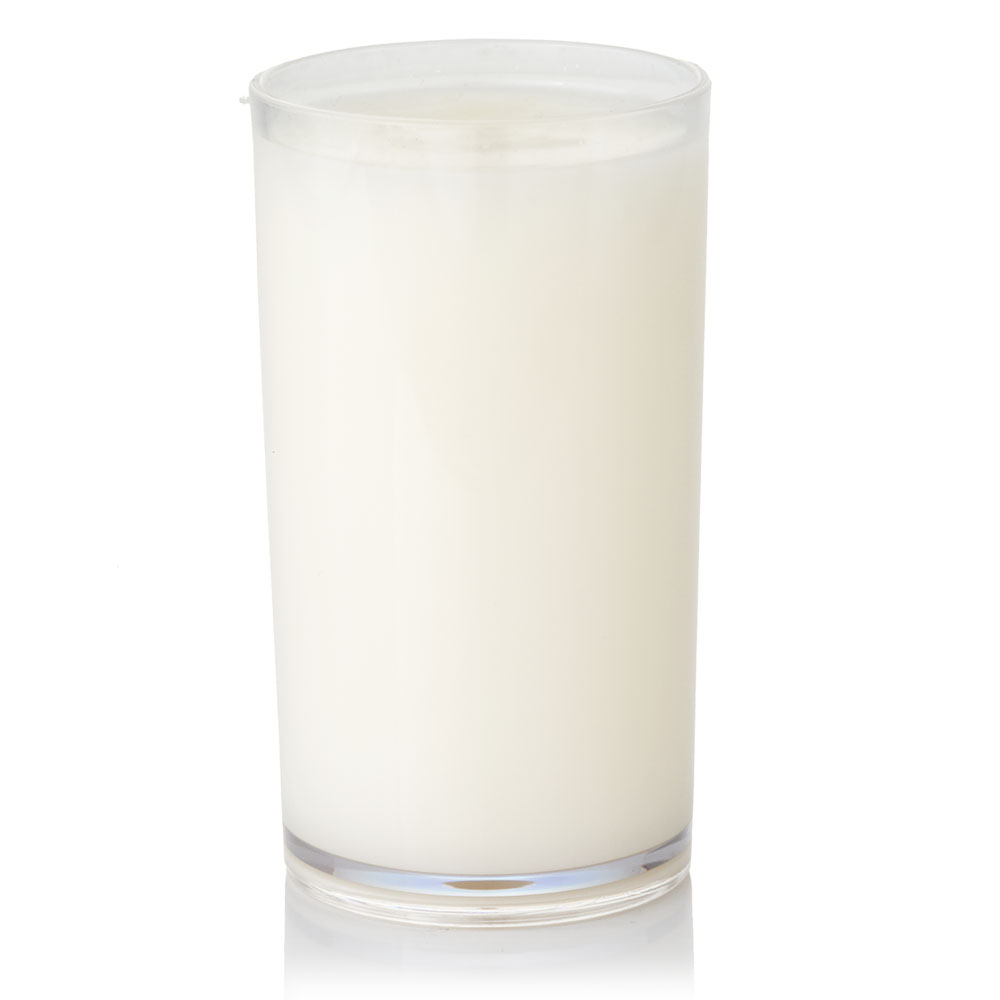glass of milk: (235, 47, 730, 930)
